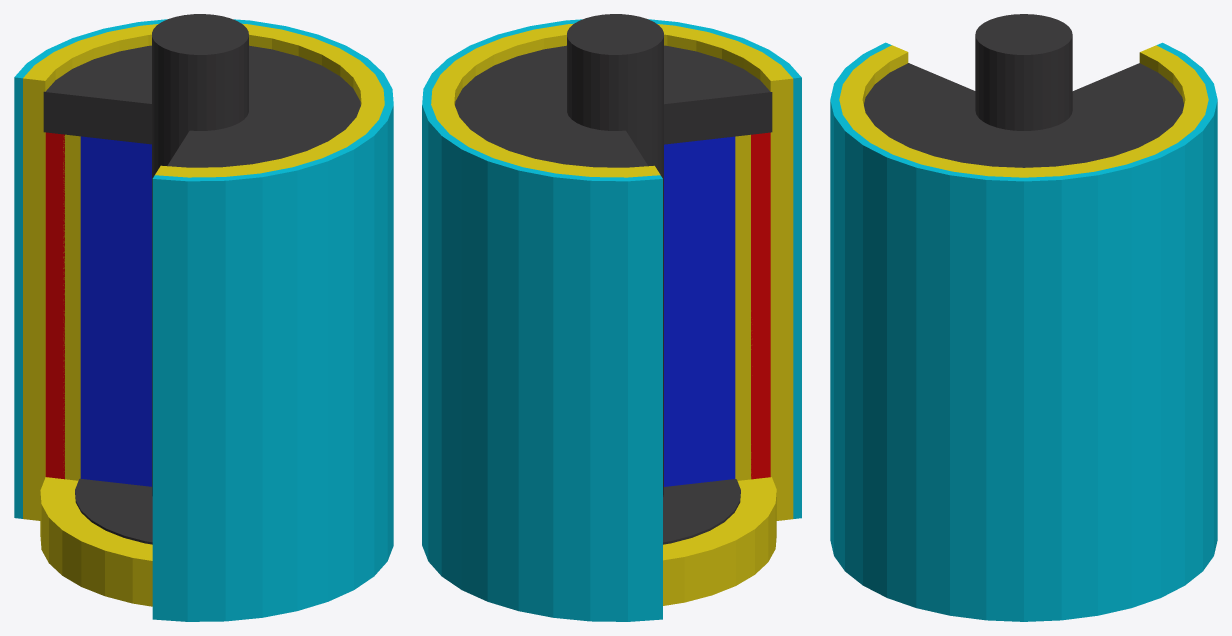
Rendered from Dry cell.gltf.
The picture shows the model from 3 angles, left to right: view 1: azimuth 30°, elevation 25°; view 2: azimuth 150°, elevation 25°; view 3: azimuth 270°, elevation 25°; orthographic projection.
Visible parts, largest first — view 1: Cylinder.002, fat layer, Top, Cylinder.003, Middle cathode, Bottom.001, Cylinder.004, Cylinder.001, Bottom; view 2: Cylinder.002, fat layer, Top, Cylinder.003, Middle cathode, Bottom.001, Cylinder.004, Cylinder.001, Bottom; view 3: Cylinder.002, Top, Middle cathode, Cylinder.003.
Part boxes in pixels (bbox=[...]): Cylinder.002: bbox=[14, 19, 393, 621]; fat layer: bbox=[80, 136, 151, 486]; Top: bbox=[43, 45, 360, 167]; Cylinder.003: bbox=[23, 23, 384, 520]; Middle cathode: bbox=[152, 14, 248, 496]; Bottom.001: bbox=[40, 477, 152, 606]; Cylinder.004: bbox=[45, 132, 64, 479]; Cylinder.001: bbox=[63, 134, 80, 480]; Bottom: bbox=[75, 478, 152, 544]; Cylinder.002: bbox=[422, 19, 801, 621]; fat layer: bbox=[664, 136, 735, 486]; Top: bbox=[455, 45, 772, 167]; Cylinder.003: bbox=[431, 23, 793, 520]; Middle cathode: bbox=[567, 14, 663, 496]; Bottom.001: bbox=[663, 477, 776, 605]; Cylinder.004: bbox=[751, 132, 770, 479]; Cylinder.001: bbox=[735, 134, 751, 480]; Bottom: bbox=[663, 479, 740, 544]; Cylinder.002: bbox=[830, 42, 1217, 621]; Top: bbox=[864, 63, 1183, 167]; Middle cathode: bbox=[975, 14, 1072, 130]; Cylinder.003: bbox=[839, 45, 1208, 177].
Bounding box in the file's own units: 2.05 × 3.24 × 2.25.
